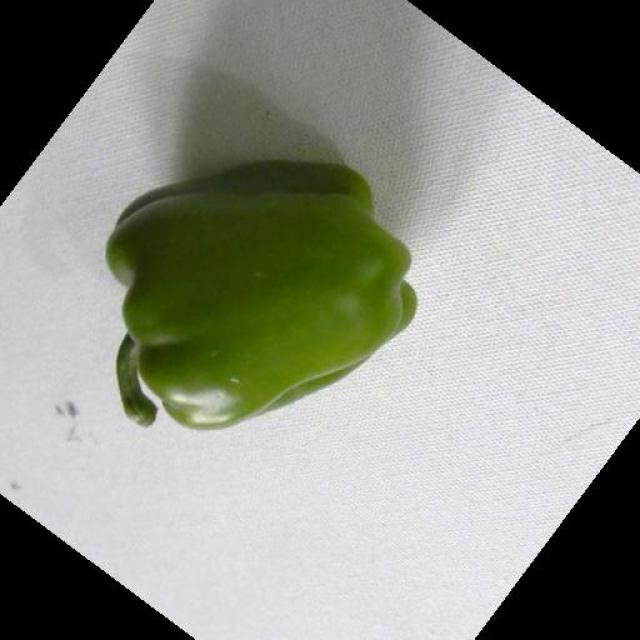Fresh_Capsicum: (102, 197, 379, 383)
